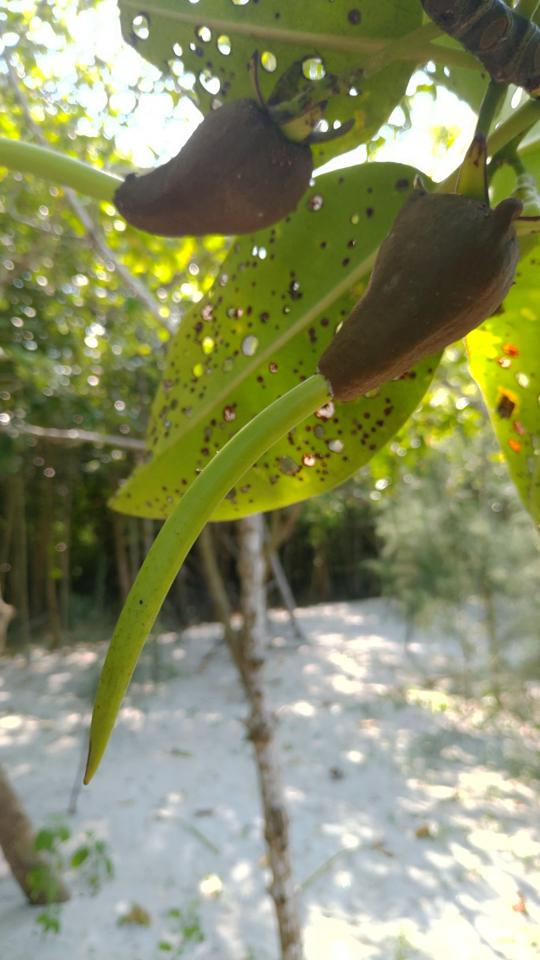mentah: (48, 159, 522, 799)
